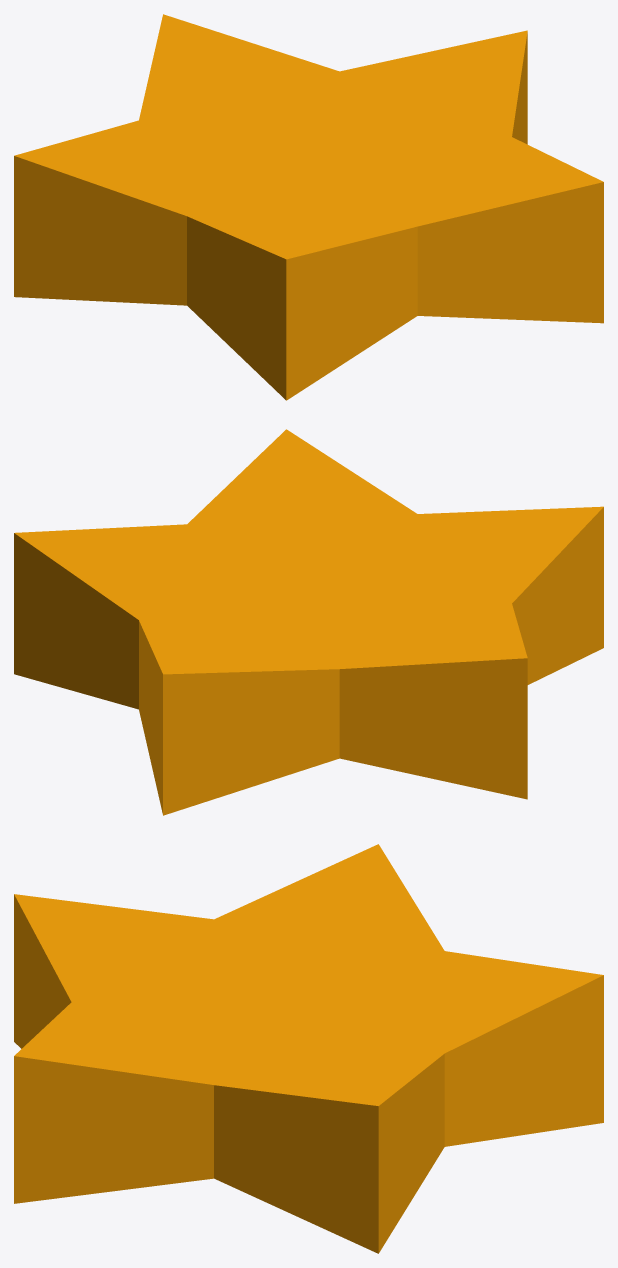
File: orange_star.gltf
3 renders of one model, top to bottom at view 1: azimuth 30°, elevation 25°; view 2: azimuth 150°, elevation 25°; view 3: azimuth 270°, elevation 25°, orthographic. The views are drawn at different scales.
Parts seen in each view (by area): view 1: Star; view 2: Star; view 3: Star.
Part boxes in pixels (x1=…): Star: x1=14, y1=14, x2=603, y2=400; Star: x1=14, y1=429, x2=603, y2=815; Star: x1=14, y1=844, x2=603, y2=1253.
Bounding box in the file's own units: 0.1902 × 0.05 × 0.1809.
